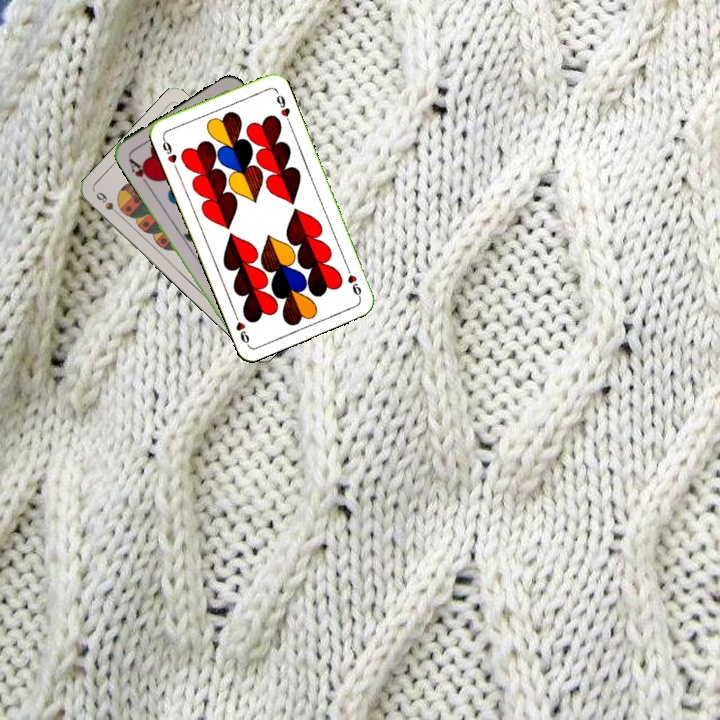H9: (158, 133, 180, 172), (342, 262, 364, 301)
HA: (124, 153, 156, 190)
S9: (92, 187, 124, 220)
